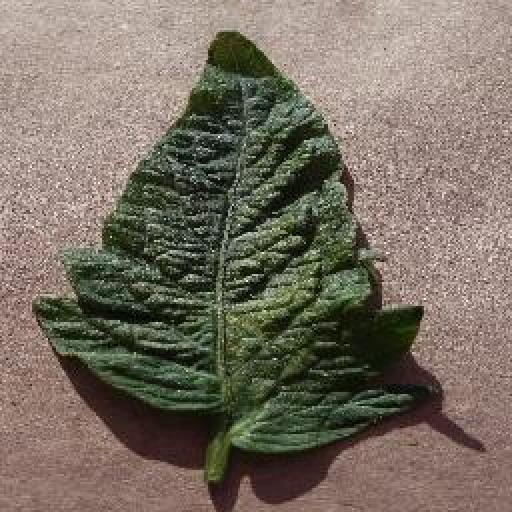disease_tomato: (32, 28, 440, 453)
